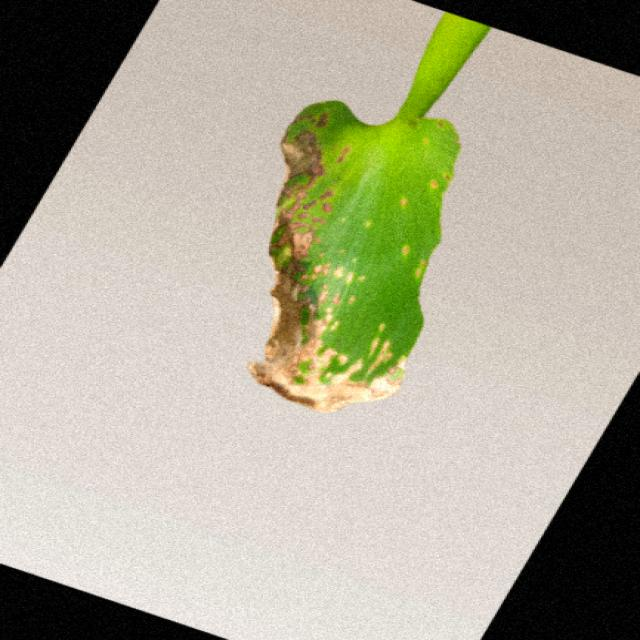daun berpenyakit bercak: (248, 14, 490, 412)
